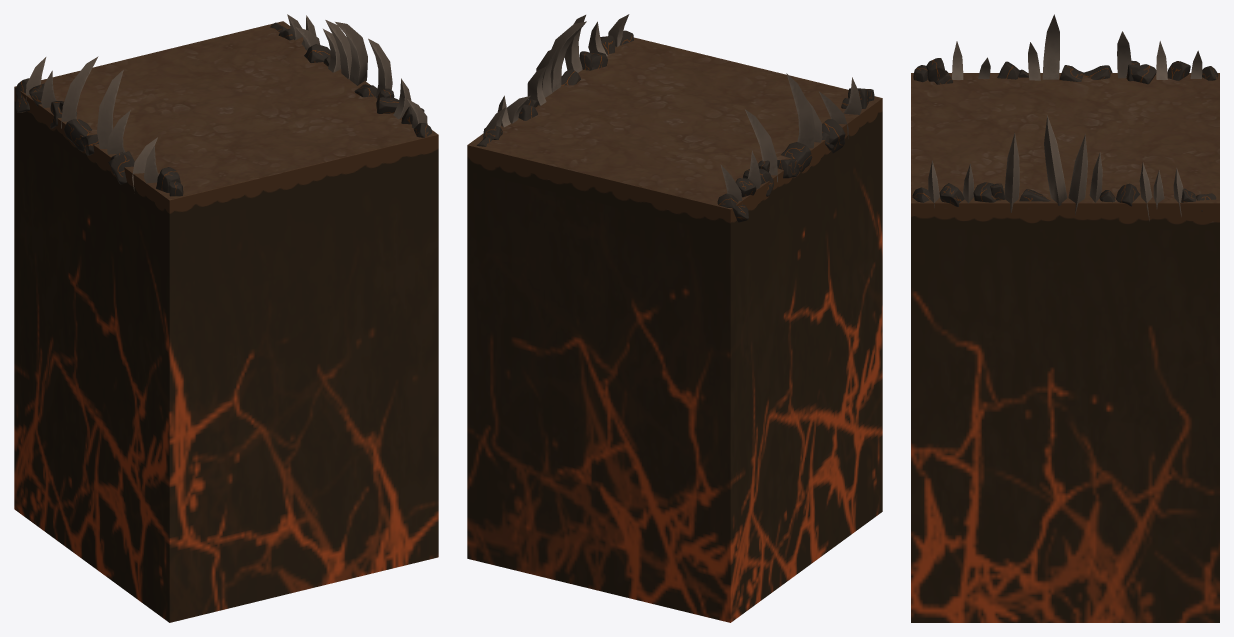
Rendered from Plataforma 2.fbx.
3 renders of one model, left to right at view 1: azimuth 30°, elevation 25°; view 2: azimuth 150°, elevation 25°; view 3: azimuth 270°, elevation 25°, orthographic. The views are drawn at different scales.
Visible parts, largest first — view 1: Plataforma 1.006, Cone.014, Cone.004, Cone.001, Cone.008, Cone.011; view 2: Plataforma 1.006, Cone.004, Cone.014, Cone.001; view 3: Plataforma 1.006, Cone.014, Cone.004, Cone.011, Cone.008, Cone.001, Cone.012.
Boxes of the visible parts, box(x1,y1,x2,y2) form: Plataforma 1.006: box(14, 21, 438, 622); Cone.014: box(335, 22, 367, 85); Cone.004: box(97, 70, 123, 148); Cone.001: box(61, 56, 98, 128); Cone.008: box(368, 38, 392, 98); Cone.011: box(325, 20, 351, 79); Plataforma 1.006: box(467, 37, 882, 622); Cone.004: box(786, 73, 815, 148); Cone.014: box(550, 21, 586, 92); Cone.001: box(745, 109, 777, 182); Plataforma 1.006: box(911, 73, 1219, 622); Cone.014: box(1044, 115, 1067, 205); Cone.004: box(1042, 14, 1059, 79); Cone.011: box(1068, 134, 1087, 215); Cone.008: box(1004, 132, 1019, 212); Cone.001: box(1117, 31, 1131, 78); Cone.012: box(1089, 152, 1102, 202).
Bounding box in the file's own units: 1058 × 1756 × 1000.
